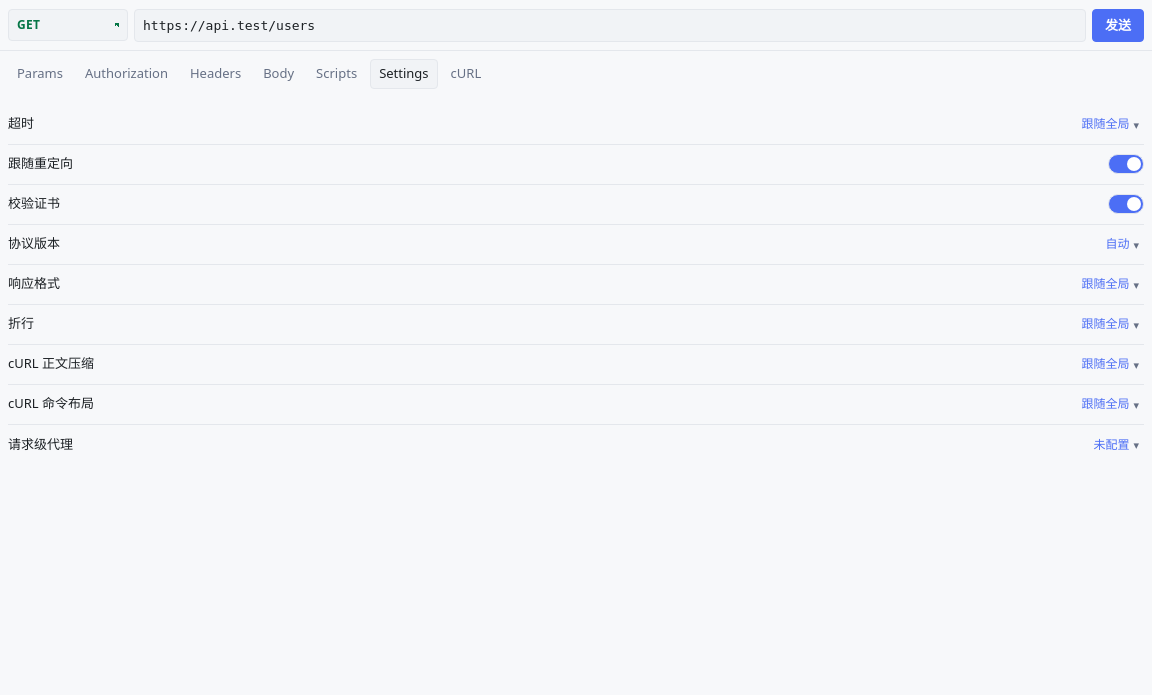
Test: 请求级代理的四态（spec: http-engine「三级代理」） › 手工填写才出现地址、凭据与白名单
Click the button with test id "request-proxy-mode" at (1116, 444), box left=1088, top=432, right=1144, bottom=456
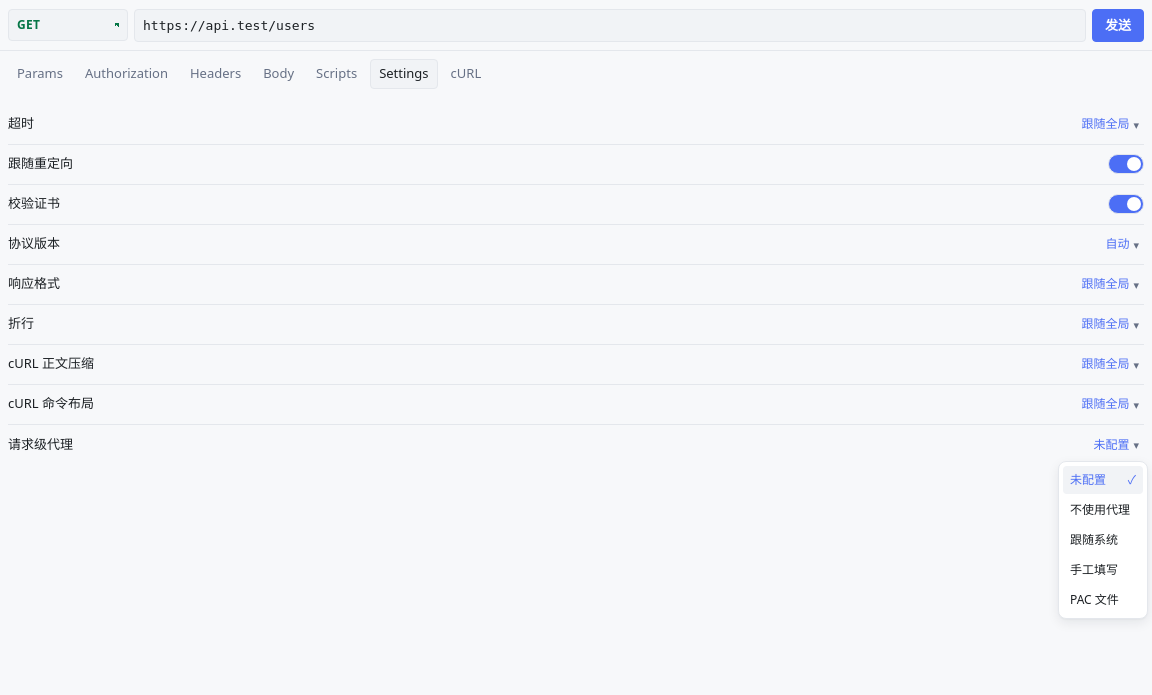
Click the option "手工填写" at (1103, 570), box left=1063, top=556, right=1143, bottom=584
(page scrolled)
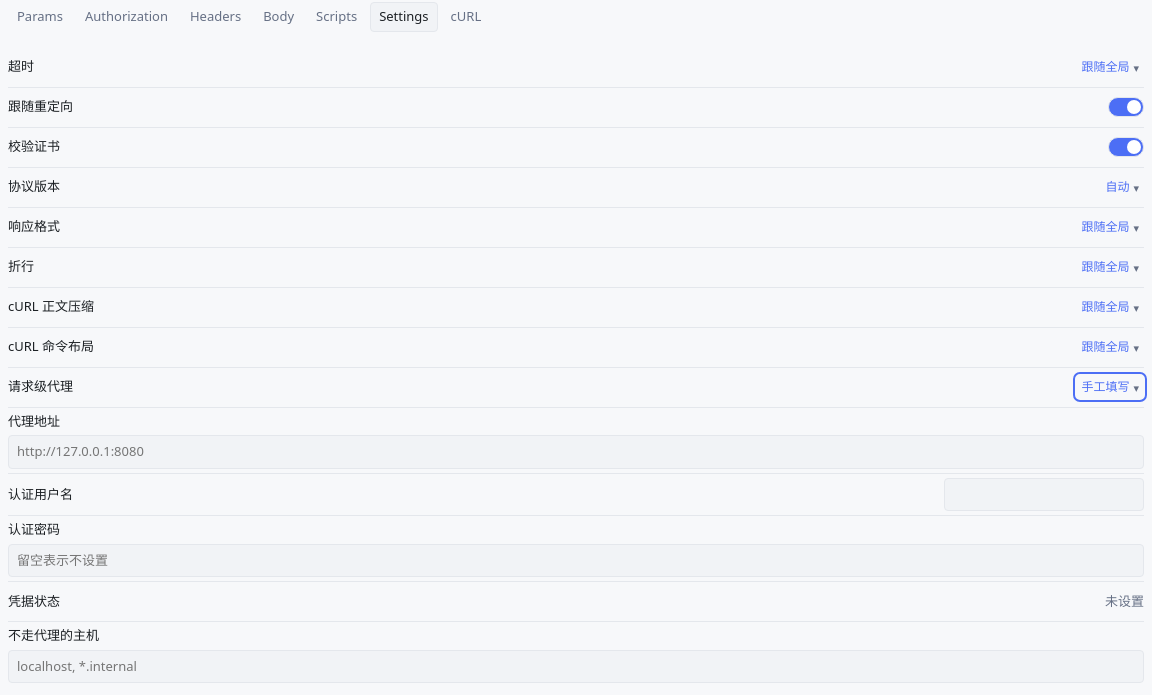
Check: the field named "请求级代理地址" is shown, box left=8, top=435, right=1144, bottom=468
Check: the password field named "请求级代理认证密码" is shown, box left=8, top=544, right=1144, bottom=577
Check: the field named "请求级代理不走代理的主机" is shown, box left=8, top=650, right=1144, bottom=683
